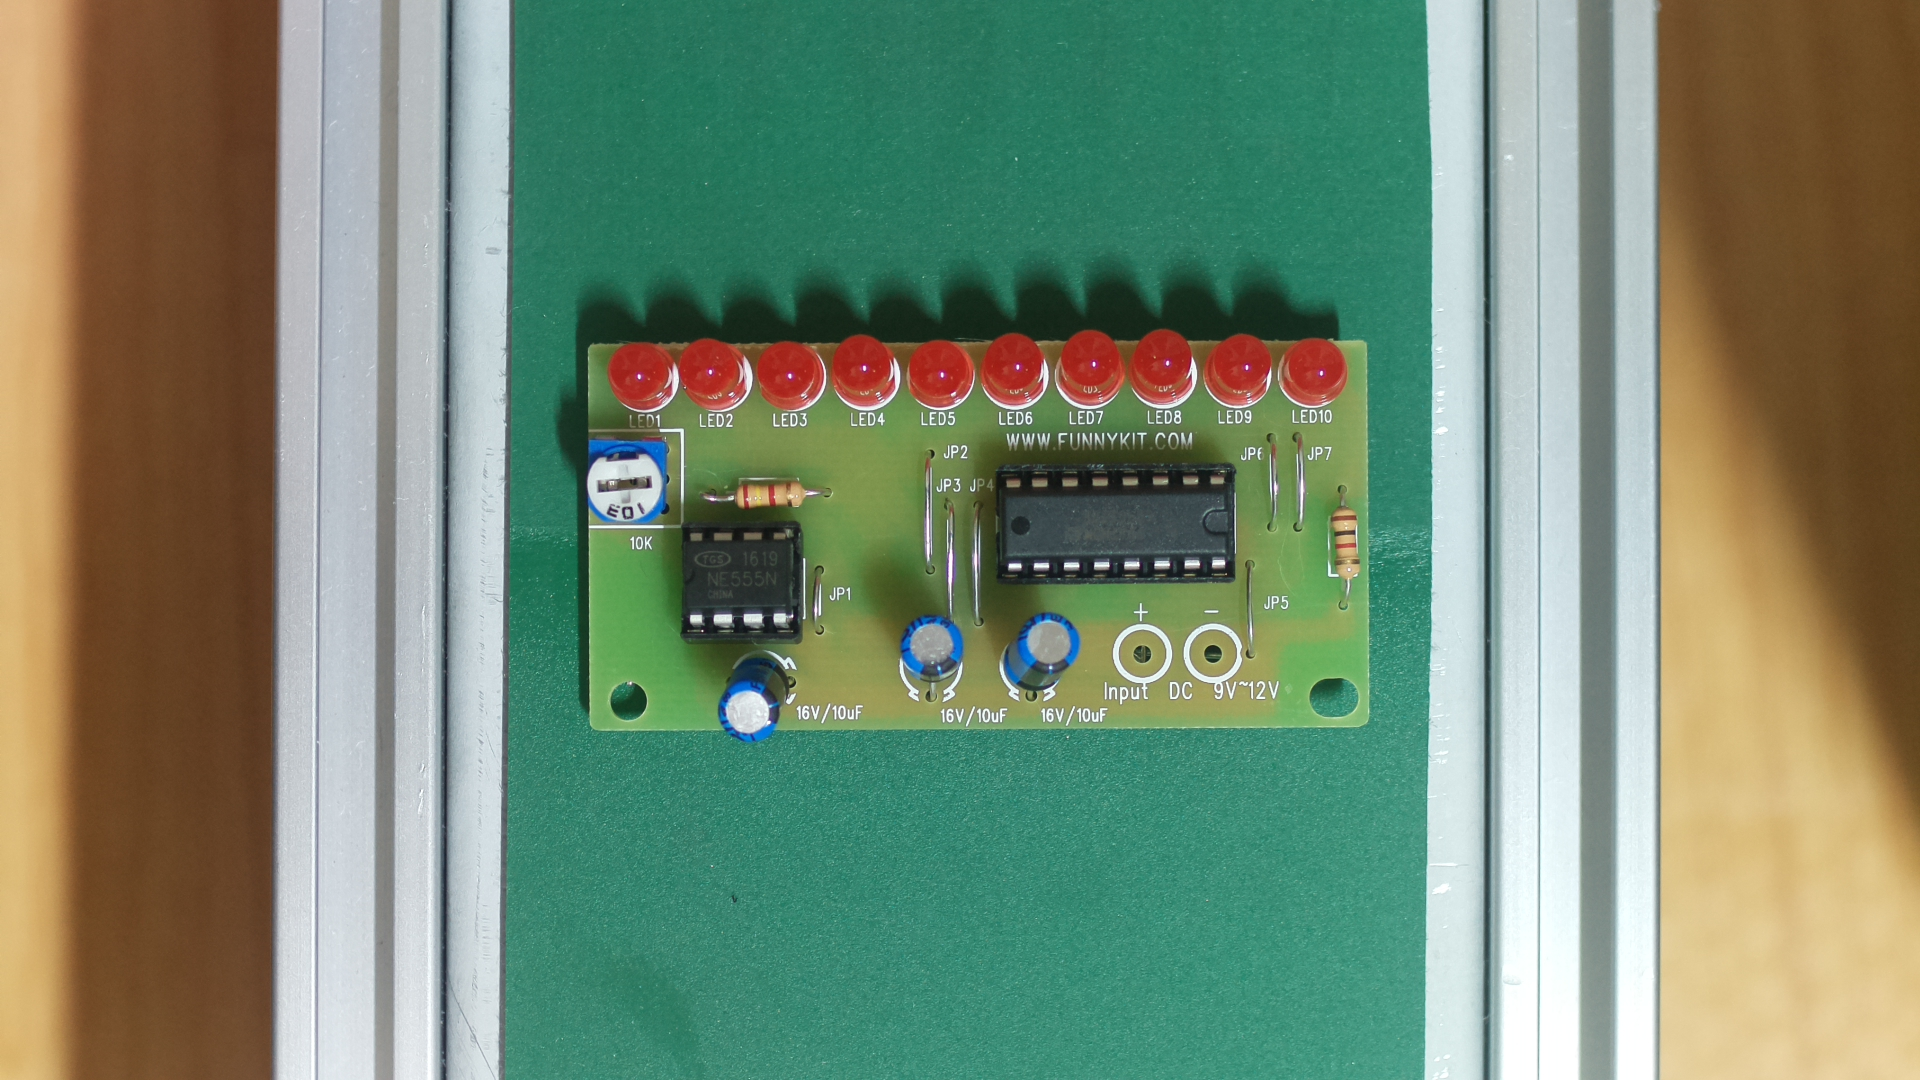B_Normal: (567, 311, 1382, 750)
